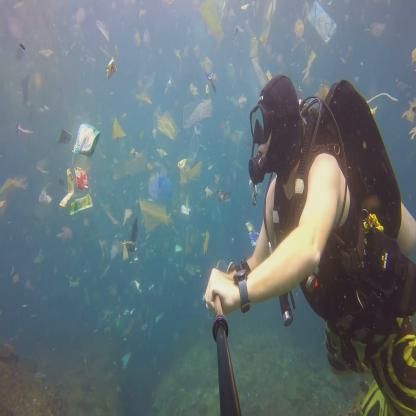Rác: (132, 191, 186, 239), (302, 1, 344, 42), (64, 164, 98, 214), (177, 98, 220, 131), (69, 120, 102, 160), (145, 166, 174, 204), (151, 107, 180, 144), (199, 7, 226, 45), (108, 154, 154, 176), (259, 5, 283, 42), (173, 155, 206, 180), (198, 55, 220, 89), (301, 46, 318, 76), (0, 170, 26, 188), (94, 18, 112, 44), (108, 120, 128, 142), (250, 63, 268, 86), (100, 241, 118, 261), (103, 55, 119, 74), (197, 232, 216, 248), (118, 241, 134, 259), (116, 347, 134, 363), (14, 119, 31, 135), (33, 153, 46, 171), (245, 39, 261, 53), (67, 275, 81, 291), (136, 89, 148, 106), (36, 188, 46, 206), (130, 281, 142, 291)
